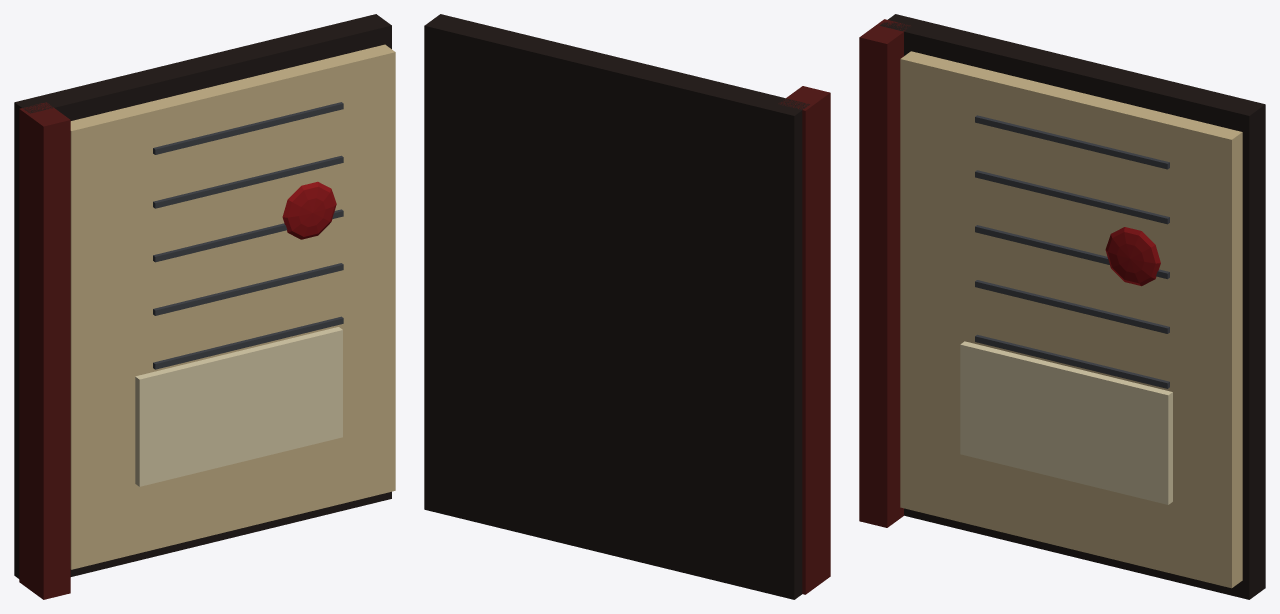
Rendered from school_01.obj.
The picture shows the model from 3 angles, left to right: view 1: azimuth 30°, elevation 25°; view 2: azimuth 150°, elevation 25°; view 3: azimuth 330°, elevation 25°; orthographic projection. The views are drawn at different scales.
Parts seen in each view (by area): view 1: Pages, Spine, Label, Cover, MidnightMark, Rule0, Rule3, Rule4, Rule1, Rule2; view 2: Cover, Spine; view 3: Pages, Cover, Label, Spine, MidnightMark, Rule4, Rule0, Rule1, Rule3, Rule2.
Part boxes in pixels (left/top/right/bottom): Pages: left=70, top=44, right=395, bottom=569; Spine: left=19, top=102, right=70, bottom=599; Label: left=135, top=327, right=342, bottom=486; Cover: left=14, top=14, right=391, bottom=578; MidnightMark: left=282, top=181, right=336, bottom=239; Rule0: left=153, top=316, right=343, bottom=369; Rule3: left=153, top=155, right=343, bottom=208; Rule4: left=153, top=102, right=343, bottom=154; Rule1: left=153, top=263, right=343, bottom=315; Rule2: left=153, top=209, right=343, bottom=262; Cover: left=424, top=14, right=809, bottom=599; Spine: left=778, top=86, right=830, bottom=594; Pages: left=900, top=51, right=1242, bottom=588; Cover: left=880, top=14, right=1265, bottom=599; Label: left=960, top=341, right=1172, bottom=504; Spine: left=859, top=19, right=910, bottom=527; MidnightMark: left=1105, top=227, right=1160, bottom=286; Rule4: left=975, top=115, right=1169, bottom=169; Rule0: left=975, top=334, right=1169, bottom=388; Rule1: left=975, top=280, right=1169, bottom=333; Rule3: left=975, top=170, right=1169, bottom=224; Rule2: left=975, top=225, right=1169, bottom=279.
Bounding box in the file's own units: 2.42 × 3 × 0.395.
